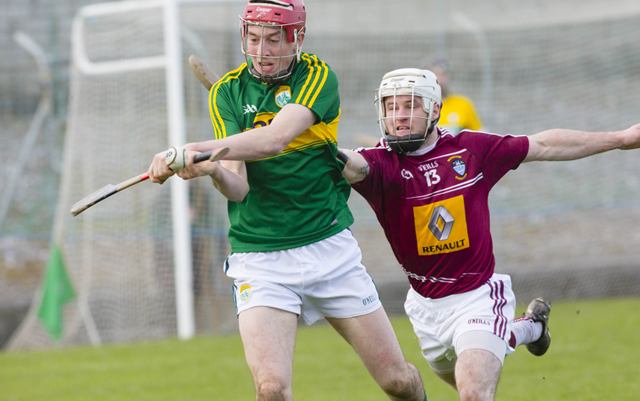hurley: (68, 140, 231, 218)
